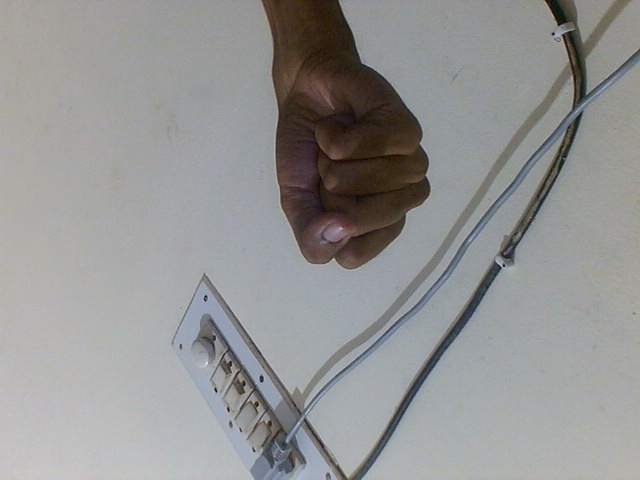hand: (262, 43, 434, 276)
